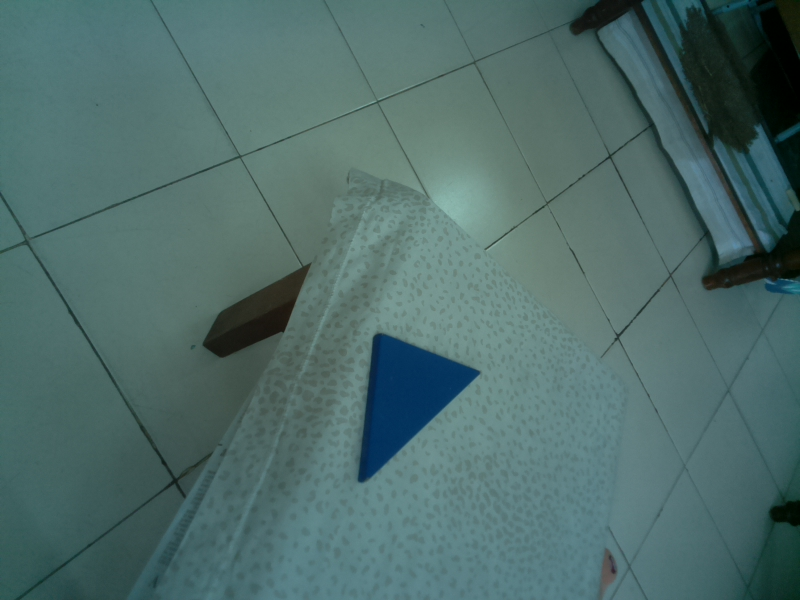Triangle: (355, 326, 486, 495)
